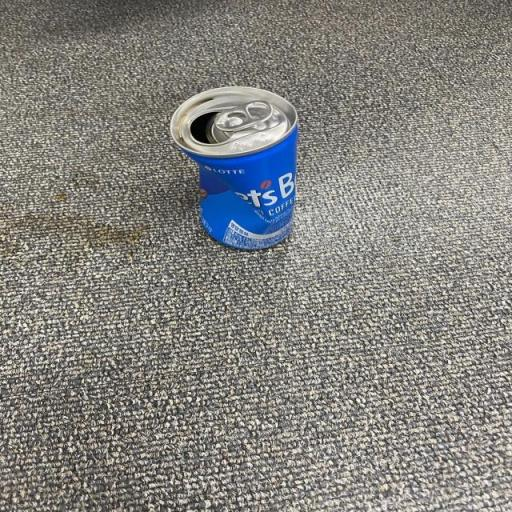metal: (152, 77, 320, 254)
